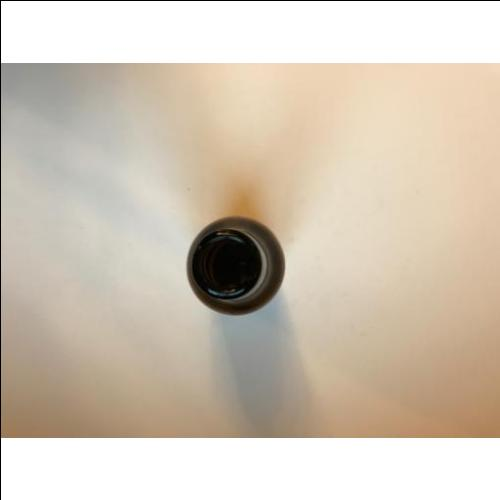glass: (186, 216, 283, 315)
